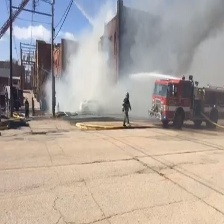smoke: (46, 1, 223, 116)
